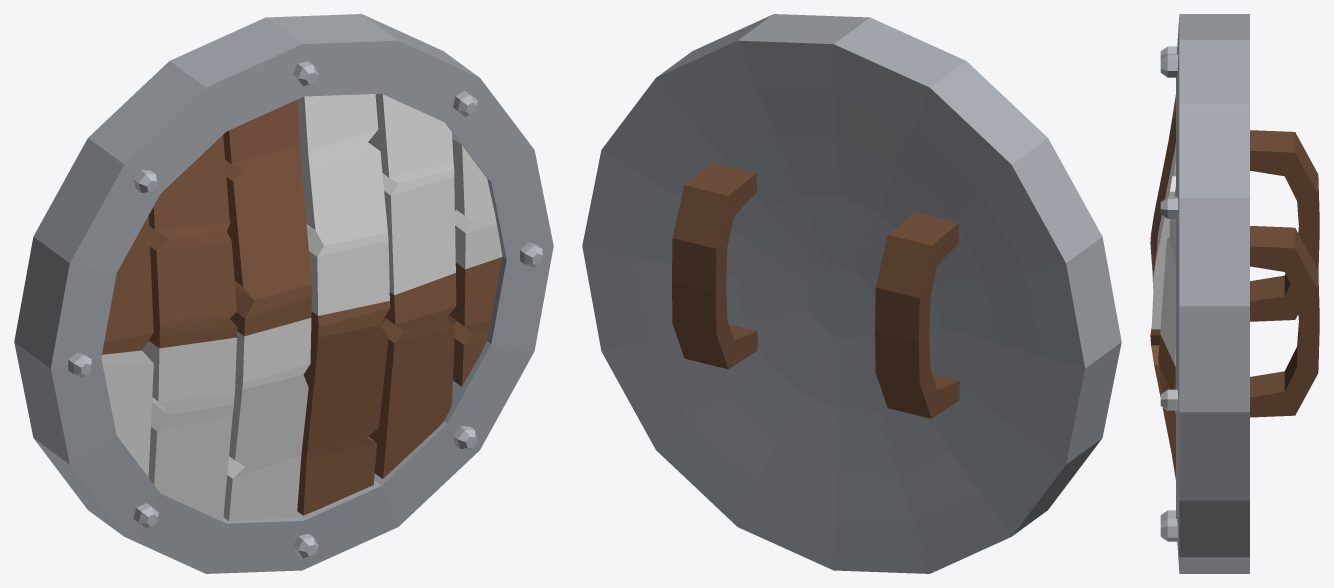
The model's file is shield_round.glb.
The picture shows the model from 3 angles, left to right: view 1: azimuth 30°, elevation 25°; view 2: azimuth 150°, elevation 25°; view 3: azimuth 270°, elevation 25°; orthographic projection. The views are drawn at different scales.
Parts seen in each view (by area): view 1: Shield_Round_2; view 2: Shield_Round_2; view 3: Shield_Round_2.
Boxes of the visible parts, x1=… form: Shield_Round_2: x1=14, y1=14, x2=553, y2=573; Shield_Round_2: x1=582, y1=14, x2=1121, y2=573; Shield_Round_2: x1=1150, y1=14, x2=1319, y2=573.
Size of the model in its own units: 2 by 2 by 0.6037.
